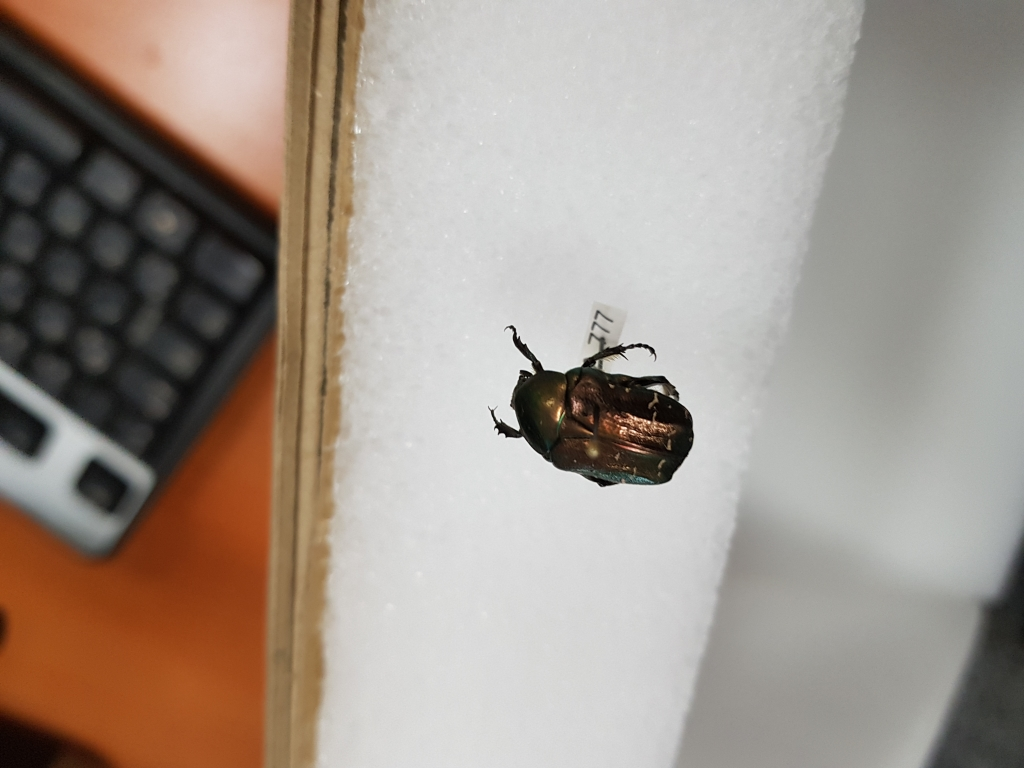Cetonia_aurata: (483, 314, 695, 495)
